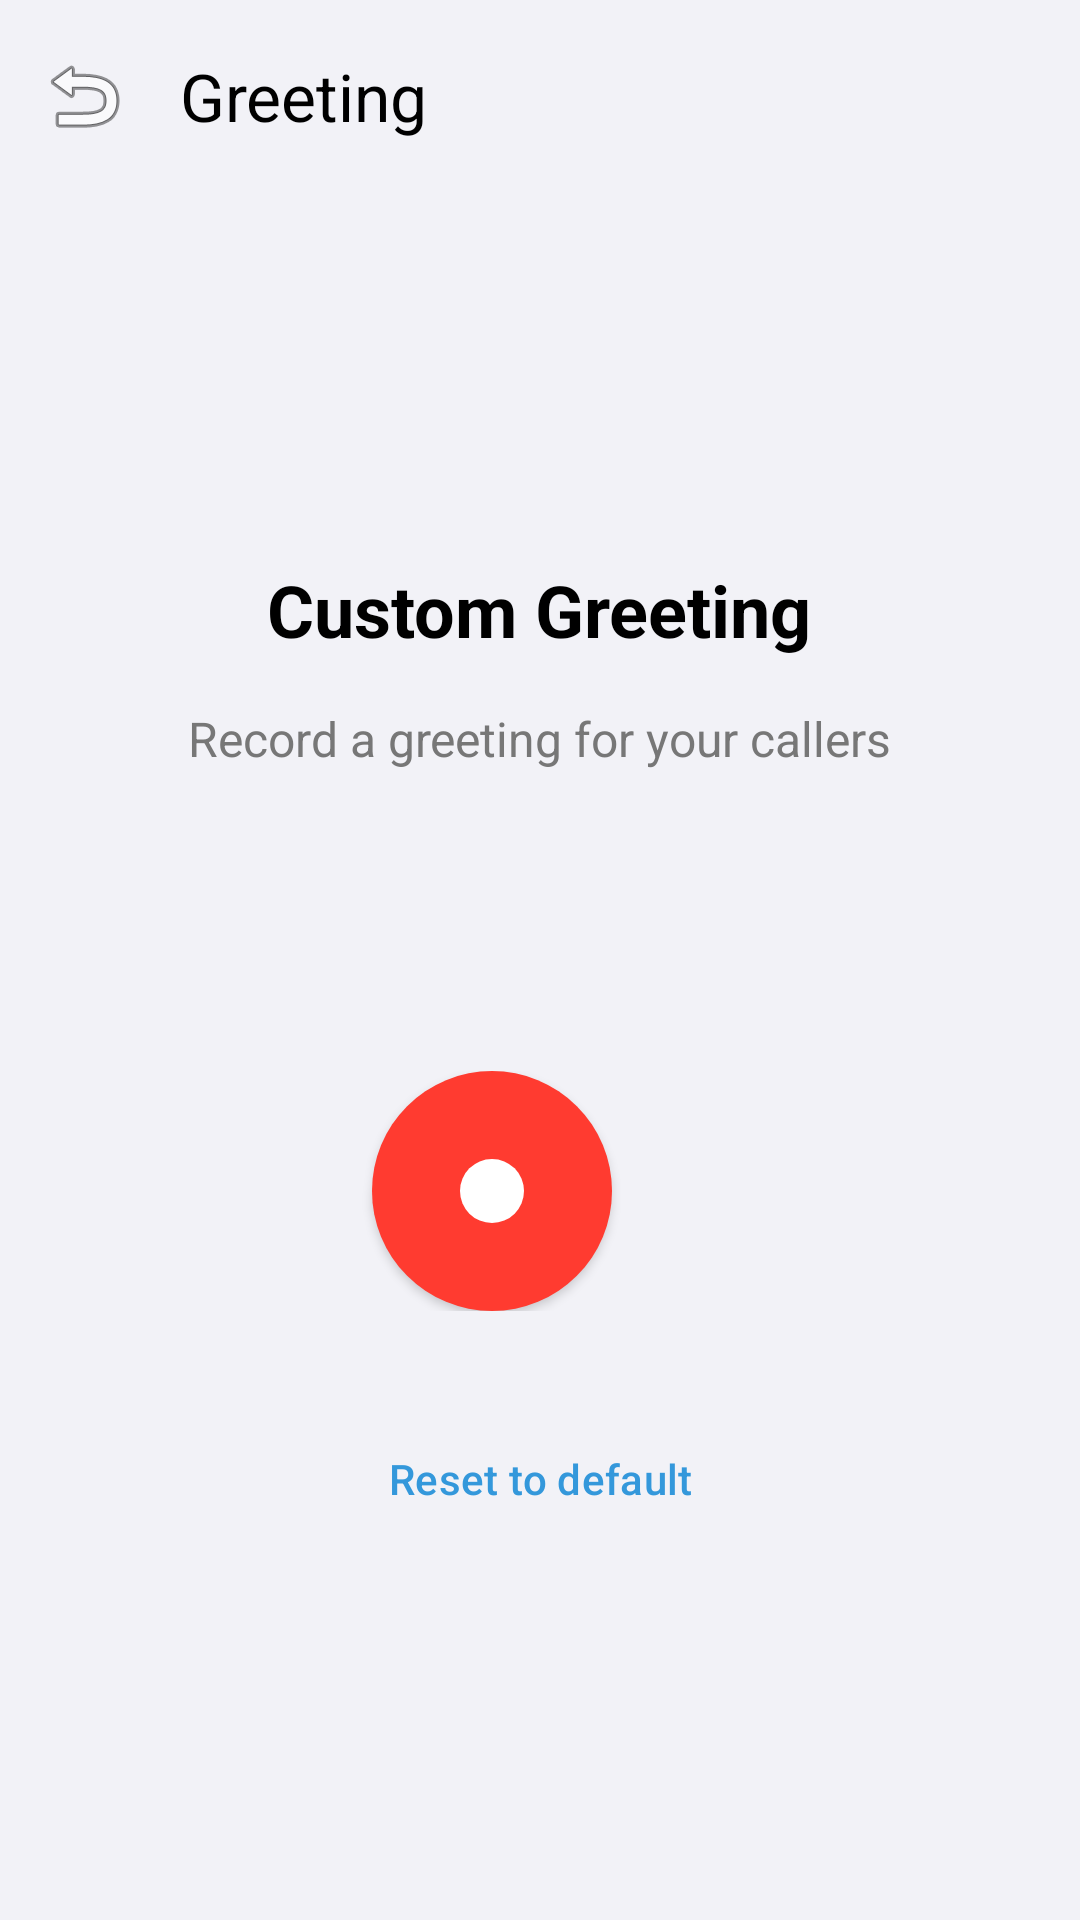

Locate icon controls on the screen. Image size 1080*1920, boxes as (x1, y1, x2, y2).
record: (372, 1071, 612, 1311)
